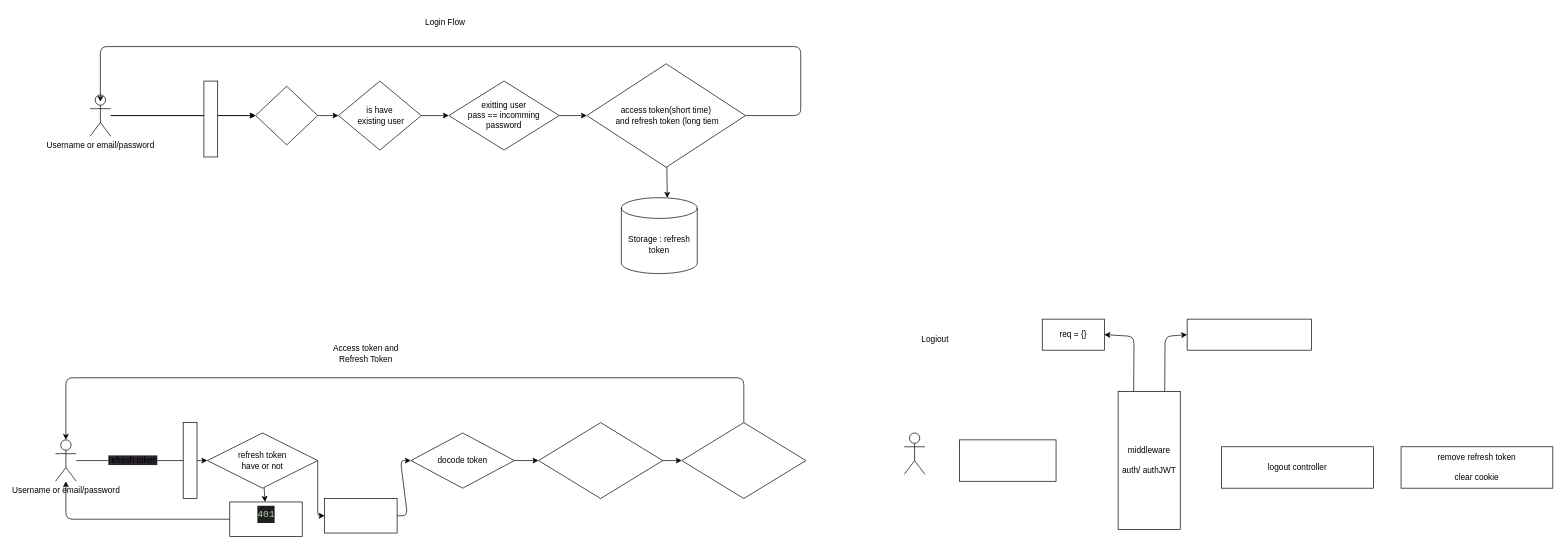
Image size: 1565x554. Some labels were removed from this diagram. Here are the shapes that lost their labels. From the top down, the centre of each, then its label:
the point at 286,115: validation
the point at 1248,334: req = { user: userInformation }
the point at 600,460: depends on user id, check refresh token
the point at 743,460: if true, generate new token
the point at 914,453: Actor
the point at 1007,460: route handler / logout
the point at 360,515: Vefiy token
